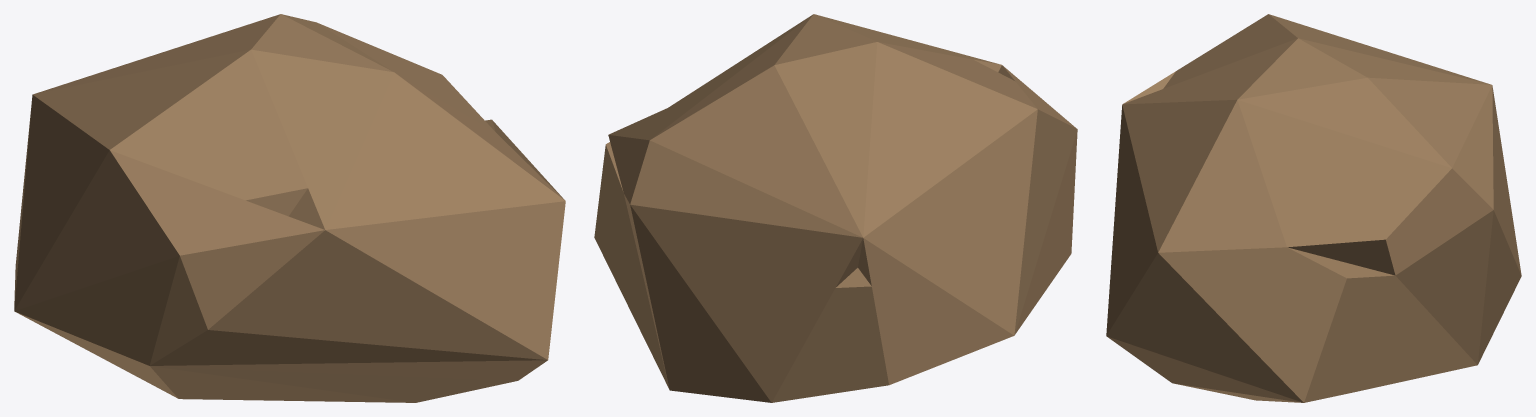
Rendered from SM_Envr_Nature_Farm_Vegetable_Potato_01.fbx.
The picture shows the model from 3 angles, left to right: view 1: azimuth 30°, elevation 25°; view 2: azimuth 150°, elevation 25°; view 3: azimuth 270°, elevation 25°; orthographic projection. The views are drawn at different scales.
Parts seen in each view (by area): view 1: SM_Envr_Nature_Farm_Vegetable_Potato_01; view 2: SM_Envr_Nature_Farm_Vegetable_Potato_01; view 3: SM_Envr_Nature_Farm_Vegetable_Potato_01.
Part boxes in pixels (box(x1,y1,x2,y2)): SM_Envr_Nature_Farm_Vegetable_Potato_01: box(14, 14, 565, 402); SM_Envr_Nature_Farm_Vegetable_Potato_01: box(594, 14, 1077, 402); SM_Envr_Nature_Farm_Vegetable_Potato_01: box(1106, 14, 1521, 402).
Bounding box in the file's own units: 7.81 × 5.6 × 6.73.
